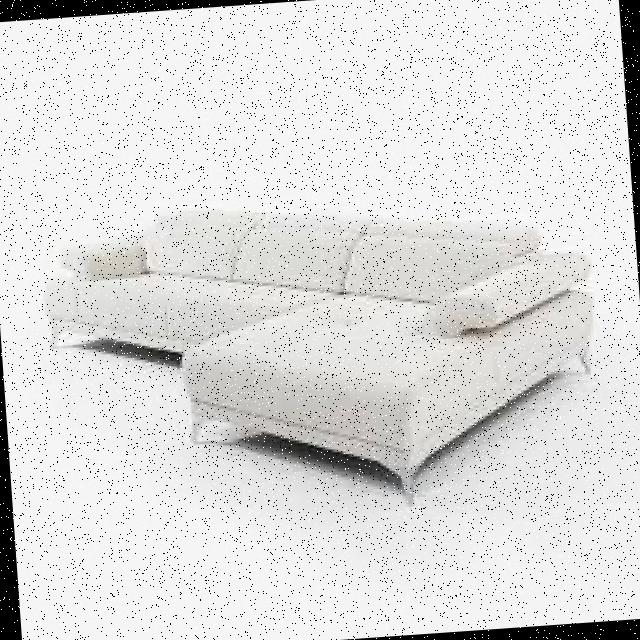Sofa: (6, 109, 636, 571)
